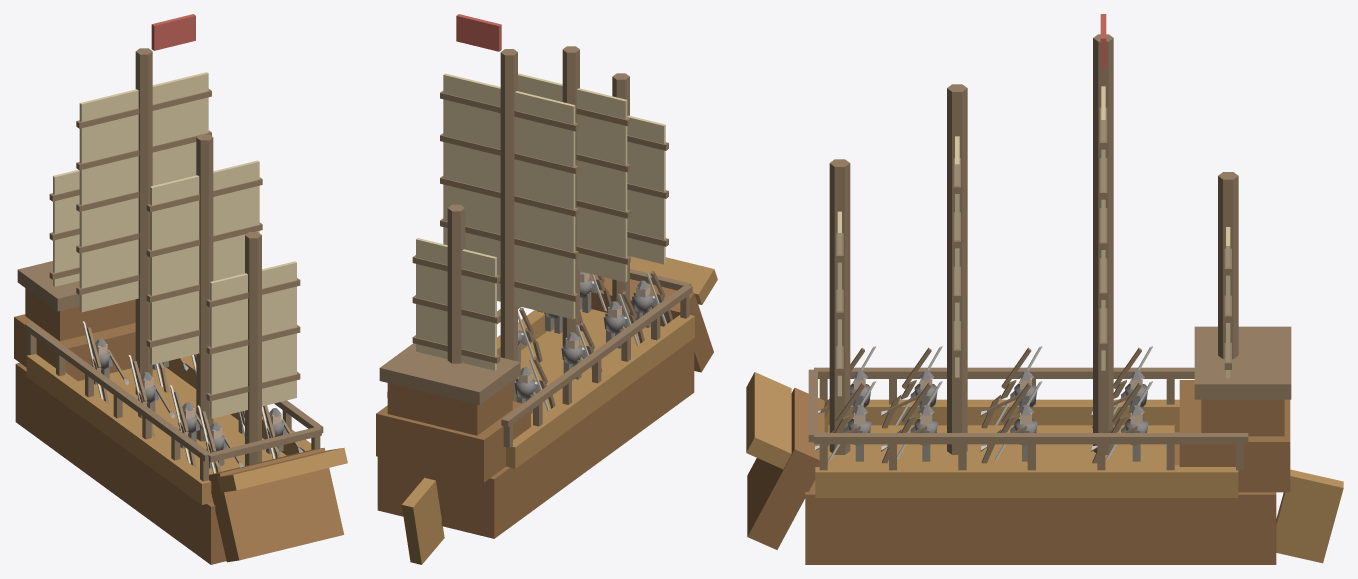
Rendered from troop-large-ship.glb.
The picture shows the model from 3 angles, left to right: view 1: azimuth 30°, elevation 25°; view 2: azimuth 150°, elevation 25°; view 3: azimuth 270°, elevation 25°; orthographic projection. The views are drawn at different scales.
Parts seen in each view (by area): view 1: sail, sail2, body, sail3, bow_panel, gunwale_l, sail_mast, sail2_mast, deck, sail3_mast, sail4, poop1 (+8 smaller); view 2: sail, body, sail2, sail4, poop1, gunwale_l, sail3, sail_mast, poop_roof, poop2, deck, rudder (+9 smaller); view 3: body, gunwale_r, deck, sail_mast, poop_roof, bow_panel, sail2_mast, poop1, rail_bar_r, gunwale_l, sail3_mast, rudder (+8 smaller).
Boxes of the visible parts, <box> form: sail: <box>76,72,211,312</box>; sail2: <box>146,160,262,364</box>; body: <box>15,363,226,564</box>; sail3: <box>206,261,300,418</box>; bow_panel: <box>209,447,344,562</box>; gunwale_l: <box>26,354,213,504</box>; sail_mast: <box>135,48,152,394</box>; sail2_mast: <box>196,134,213,441</box>; deck: <box>78,367,286,474</box>; sail3_mast: <box>245,232,261,465</box>; sail4: <box>49,169,79,286</box>; poop1: <box>14,314,135,381</box>; sail: <box>440,73,578,319</box>; body: <box>377,338,694,538</box>; sail2: <box>518,73,630,282</box>; sail4: <box>412,238,500,370</box>; poop1: <box>376,401,530,482</box>; gunwale_l: <box>506,315,694,468</box>; sail3: <box>627,115,668,264</box>; sail_mast: <box>500,49,517,401</box>; poop_roof: <box>379,343,520,405</box>; poop2: <box>387,381,512,435</box>; deck: <box>518,309,663,423</box>; rudder: <box>401,477,444,564</box>; body: <box>805,432,1276,564</box>; gunwale_r: <box>815,465,1238,497</box>; deck: <box>828,425,1174,465</box>; sail_mast: <box>1093,34,1113,454</box>; poop_roof: <box>1194,326,1291,399</box>; bow_panel: <box>747,388,824,549</box>; sail2_mast: <box>947,84,967,454</box>; poop1: <box>1179,380,1290,492</box>; rail_bar_r: <box>814,433,1248,444</box>; gunwale_l: <box>824,399,1179,431</box>; sail3_mast: <box>829,159,850,454</box>; rudder: <box>1276,469,1343,563</box>.
Size of the model in its own units: 0.25 by 0.8238 by 0.8093.
